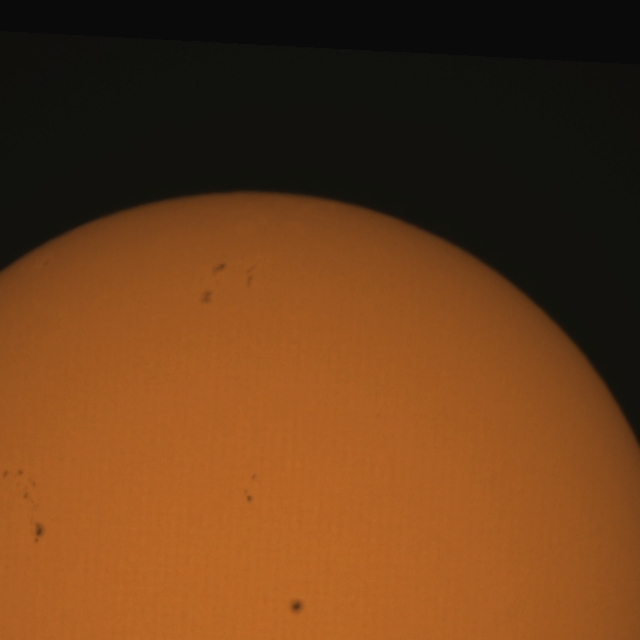sunspot: (1, 466, 38, 504), (30, 518, 46, 546), (288, 597, 306, 617), (243, 478, 255, 504), (244, 264, 256, 290), (198, 288, 215, 306), (211, 261, 227, 277), (250, 472, 258, 482)
